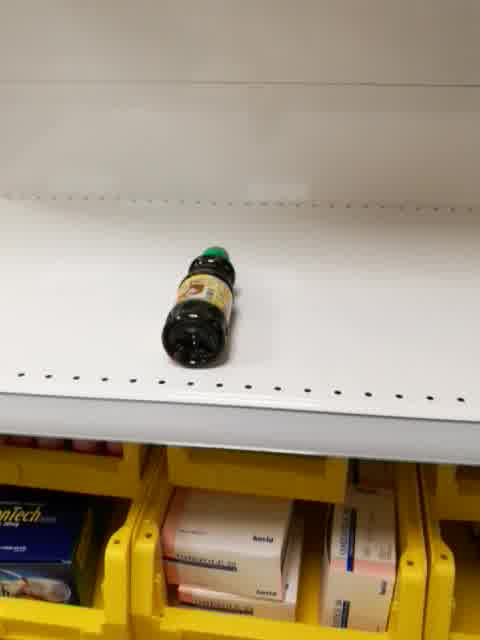cookingoil: (157, 244, 239, 369)
